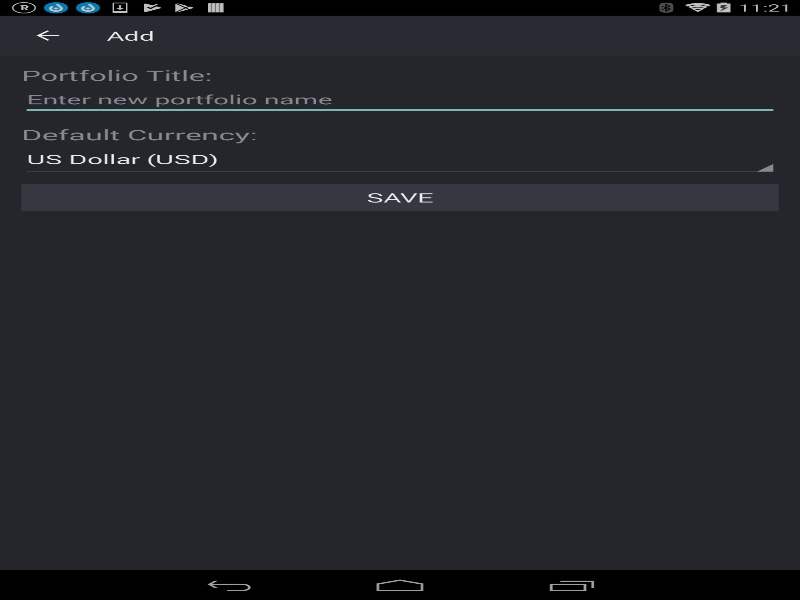Button: (21, 184, 778, 210), (10, 15, 85, 55)
Input: (21, 85, 778, 115)
